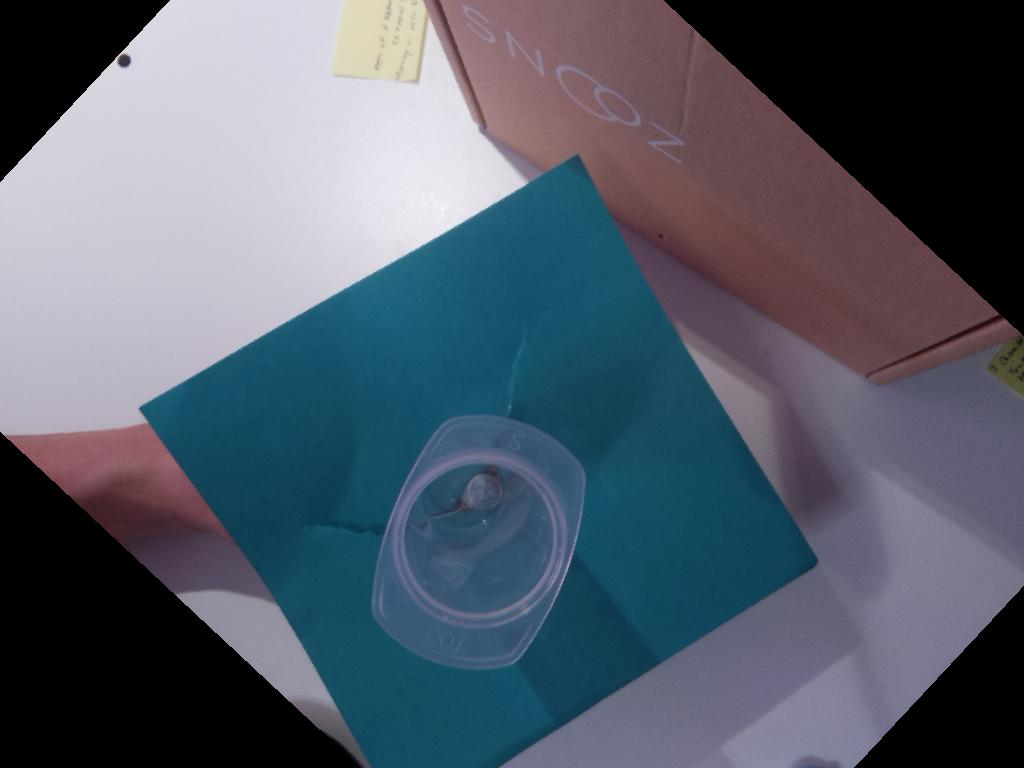clean: (372, 416, 586, 671)
